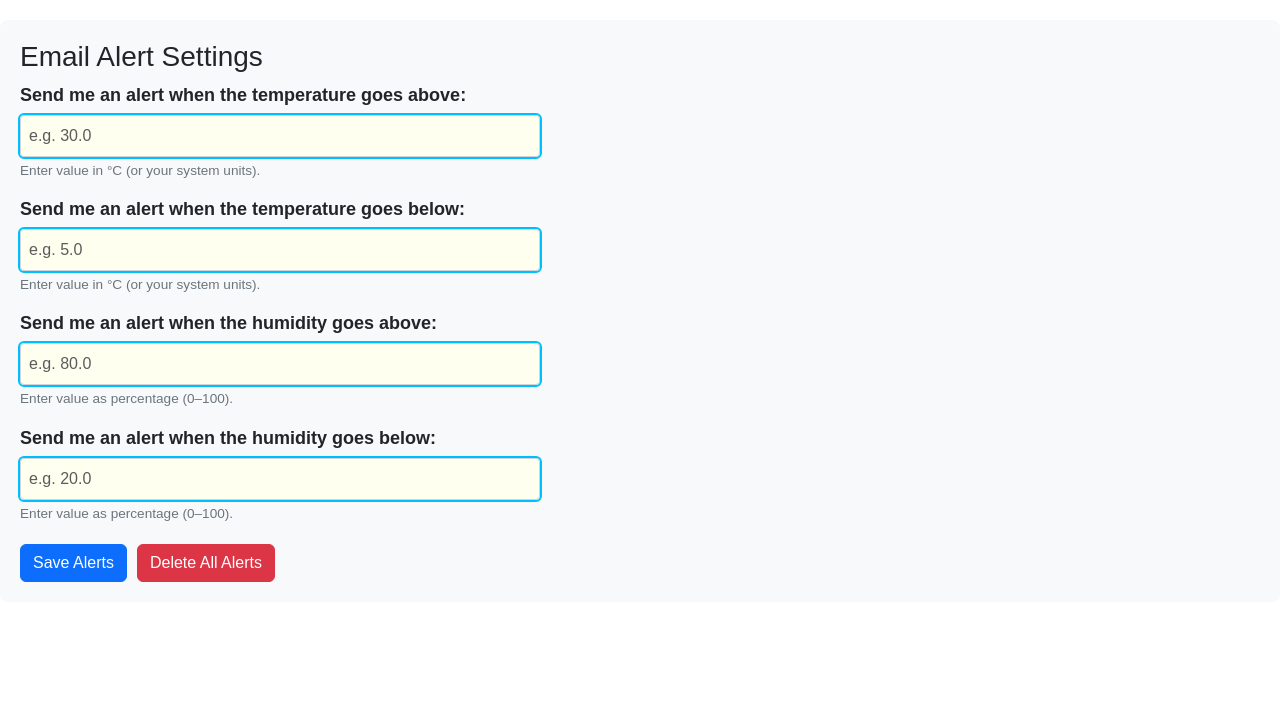
it: EmailAlerts › shows error on failed submit
The width and height of the screenshot is (1280, 720).
Click the button "Save Alerts".
click(73, 563)  # box x1=20 y1=544 x2=127 y2=582
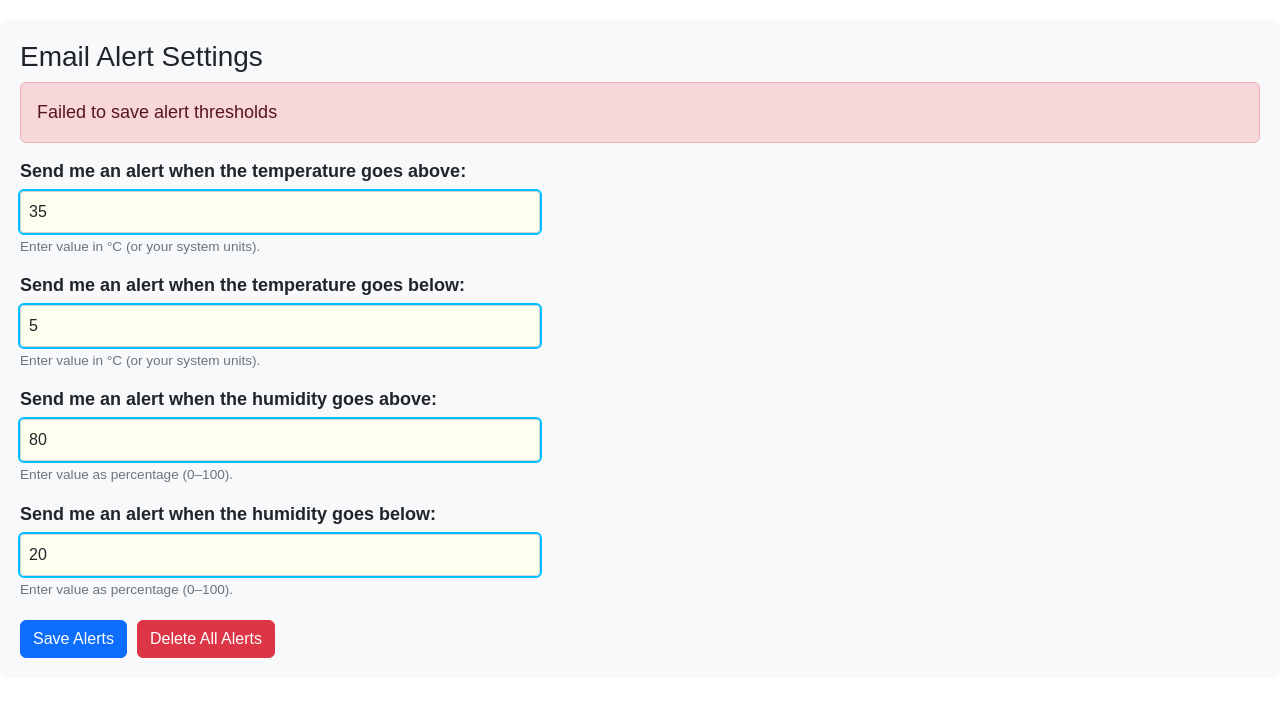
Expected: the text "Failed to save alert thresholds" is shown, x1=20 y1=82 x2=1260 y2=143
